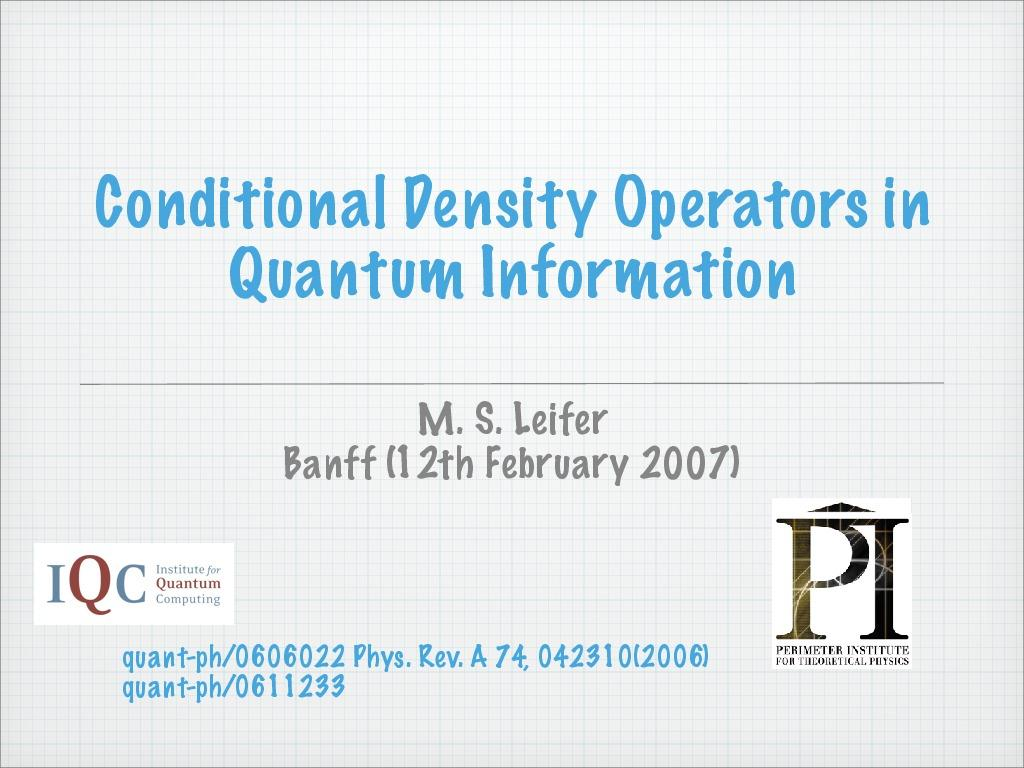title: (92, 121, 974, 361)
